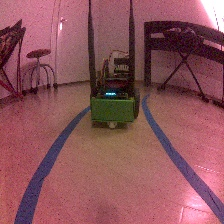rob: (88, 56, 140, 129)
